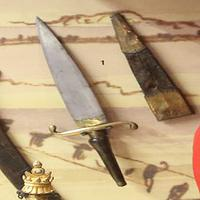knife: (26, 9, 128, 183)
